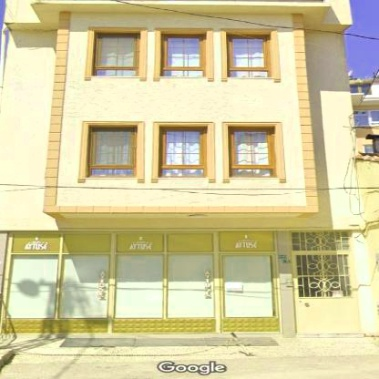door: (292, 251, 361, 333)
